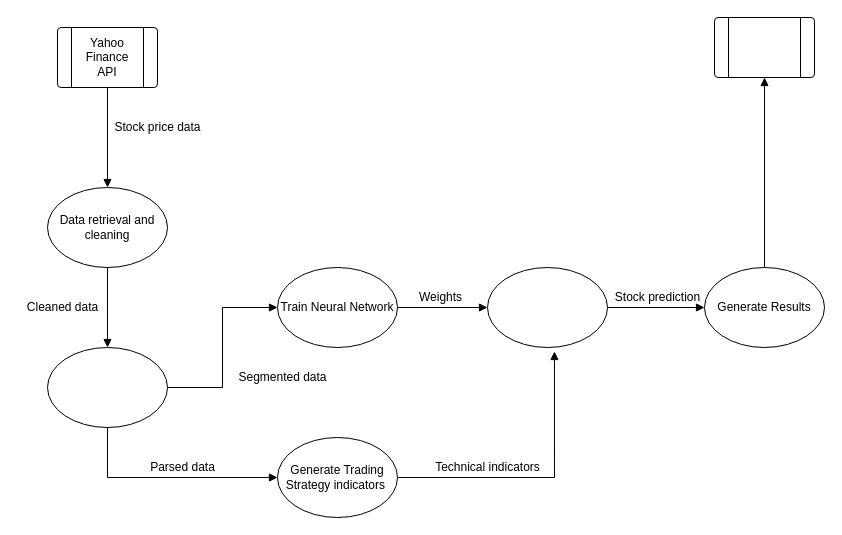
The diagram is 842 pixels wide and 535 high, and some of its shapes have lost their labels. The shapes that lost their labels are listed below. From the top down, each one's box as (x1, y1, x2, y2) in pixels, then its label:
(714, 16, 814, 78): User
(486, 266, 608, 348): LSTM Prediction
(46, 346, 168, 428): Stock Analysis
